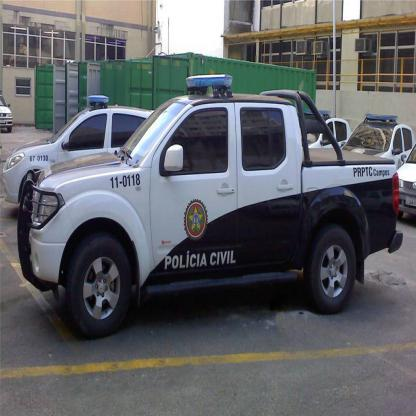Car: (0, 74, 415, 340)
Truck: (17, 75, 403, 340)
